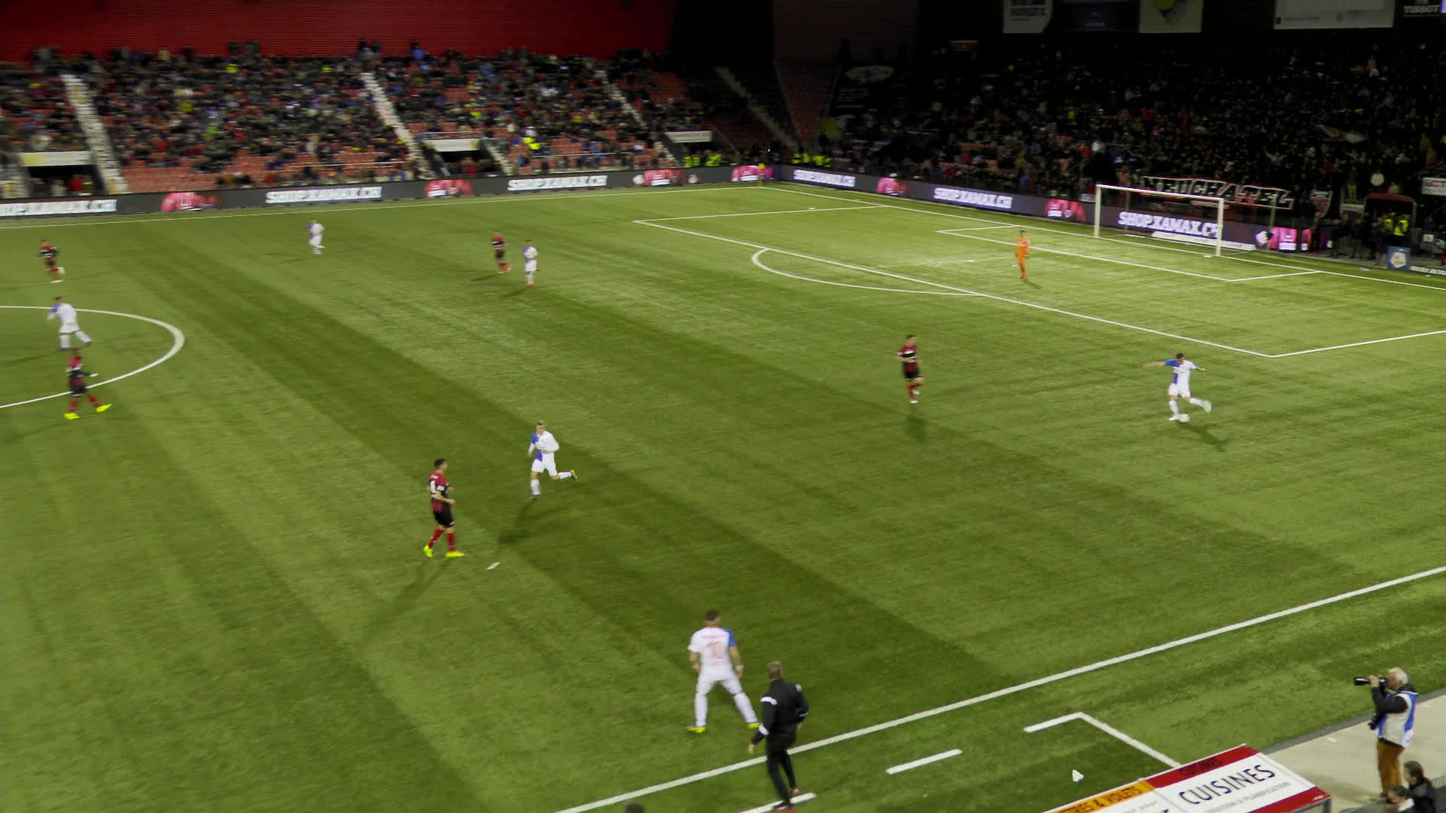ball: (1179, 414, 1189, 423)
player: (682, 610, 755, 733), (424, 458, 470, 562), (529, 420, 575, 500), (1154, 349, 1206, 418), (60, 346, 103, 420), (30, 297, 75, 352), (894, 335, 924, 407), (37, 237, 72, 284), (521, 239, 546, 287), (1013, 231, 1032, 279), (490, 230, 511, 273), (307, 217, 327, 258)
